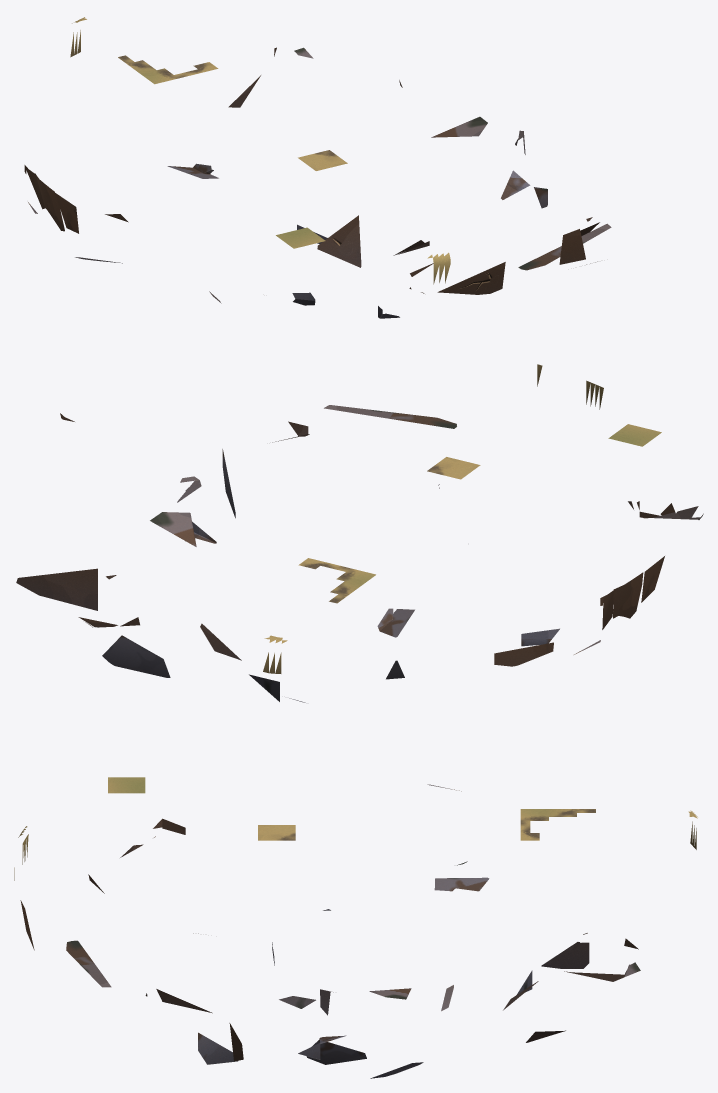
3 renders of one model, top to bottom at view 1: azimuth 30°, elevation 25°; view 2: azimuth 150°, elevation 25°; view 3: azimuth 270°, elevation 25°, orthographic. The views are drawn at different scales.
Parts seen in each view (by area): view 1: Dirt_-2_-2_-1_100_101, Dirt_-1_-5_-1_001_110, Grass_-2_2_0, Dirt_0_-5_0_101, Columns_0_-4_-1_101, Grass_-2_-2_0_110, Grass_-3_-4_0_010, Columns_1_0_-1_101, Dirt_-5_0_0_001, Columns_2_-1_-1_001, Dirt_-5_-1_0_010; view 2: Dirt_2_2_-1_110_001, Columns_1_2_-2_000, Grass_-2_2_0, Columns_0_-4_-1_101, Columns_1_0_-1_101, Columns_-2_1_-1, Dirt_-5_0_0_001, Dirt_-5_2_-1, Grass_-3_-4_0_010, Grass_-2_-2_0_110; view 3: Grass_-2_2_0, Dirt_-1_2_-1_011, Columns_2_-1_-1_001, Columns_1_-1_-2_101_011, Columns_2_-3_-1_111, Columns_0_-4_-1_101, Columns_-2_1_-1, Grass_-3_-4_0_010, Grass_-2_-2_0_110.
Boxes of the visible parts, left/top/right/bottom form: Dirt_-2_-2_-1_100_101: left=317, top=215, right=361, bottom=267; Dirt_-1_-5_-1_001_110: left=437, top=262, right=505, bottom=294; Grass_-2_2_0: left=118, top=55, right=218, bottom=84; Dirt_0_-5_0_101: left=559, top=229, right=585, bottom=264; Columns_0_-4_-1_101: left=518, top=223, right=611, bottom=270; Grass_-2_-2_0_110: left=298, top=150, right=347, bottom=170; Grass_-3_-4_0_010: left=276, top=227, right=325, bottom=248; Columns_1_0_-1_101: left=431, top=116, right=487, bottom=137; Dirt_-5_0_0_001: left=37, top=177, right=64, bottom=231; Columns_2_-1_-1_001: left=501, top=130, right=530, bottom=199; Dirt_-5_-1_0_010: left=55, top=193, right=78, bottom=233; Dirt_2_2_-1_110_001: left=16, top=568, right=97, bottom=610; Columns_1_2_-2_000: left=102, top=635, right=170, bottom=677; Grass_-2_2_0: left=298, top=558, right=375, bottom=603; Columns_0_-4_-1_101: left=324, top=405, right=456, bottom=428; Columns_1_0_-1_101: left=150, top=512, right=196, bottom=546; Columns_-2_1_-1: left=377, top=608, right=414, bottom=679; Dirt_-5_0_0_001: left=613, top=572, right=643, bottom=618; Dirt_-5_2_-1: left=494, top=642, right=553, bottom=666; Grass_-3_-4_0_010: left=608, top=424, right=661, bottom=446; Grass_-2_-2_0_110: left=427, top=457, right=480, bottom=479; Grass_-2_2_0: left=520, top=809, right=595, bottom=840; Dirt_-1_2_-1_011: left=541, top=942, right=589, bottom=968; Columns_2_-1_-1_001: left=279, top=989, right=346, bottom=1059; Columns_1_-1_-2_101_011: left=306, top=1039, right=366, bottom=1064; Columns_2_-3_-1_111: left=198, top=1032, right=237, bottom=1064; Columns_0_-4_-1_101: left=66, top=940, right=111, bottom=987; Columns_-2_1_-1: left=434, top=861, right=489, bottom=891; Grass_-3_-4_0_010: left=108, top=777, right=145, bottom=793; Grass_-2_-2_0_110: left=258, top=825, right=295, bottom=840.
Size of the model in its own units: 593 by 191 by 588.
61 materials, 61 textured.
